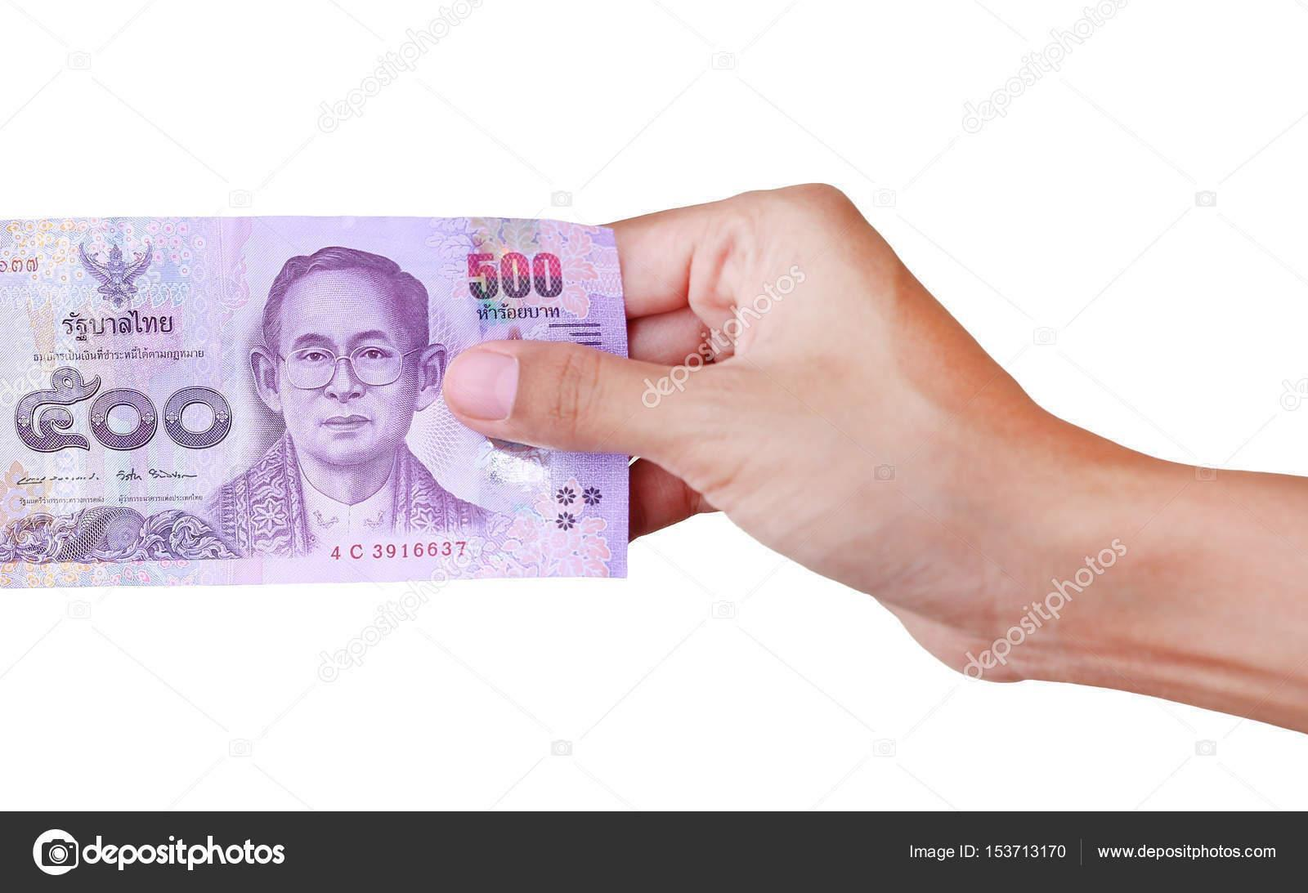500BahtTai: (4, 220, 617, 578)
